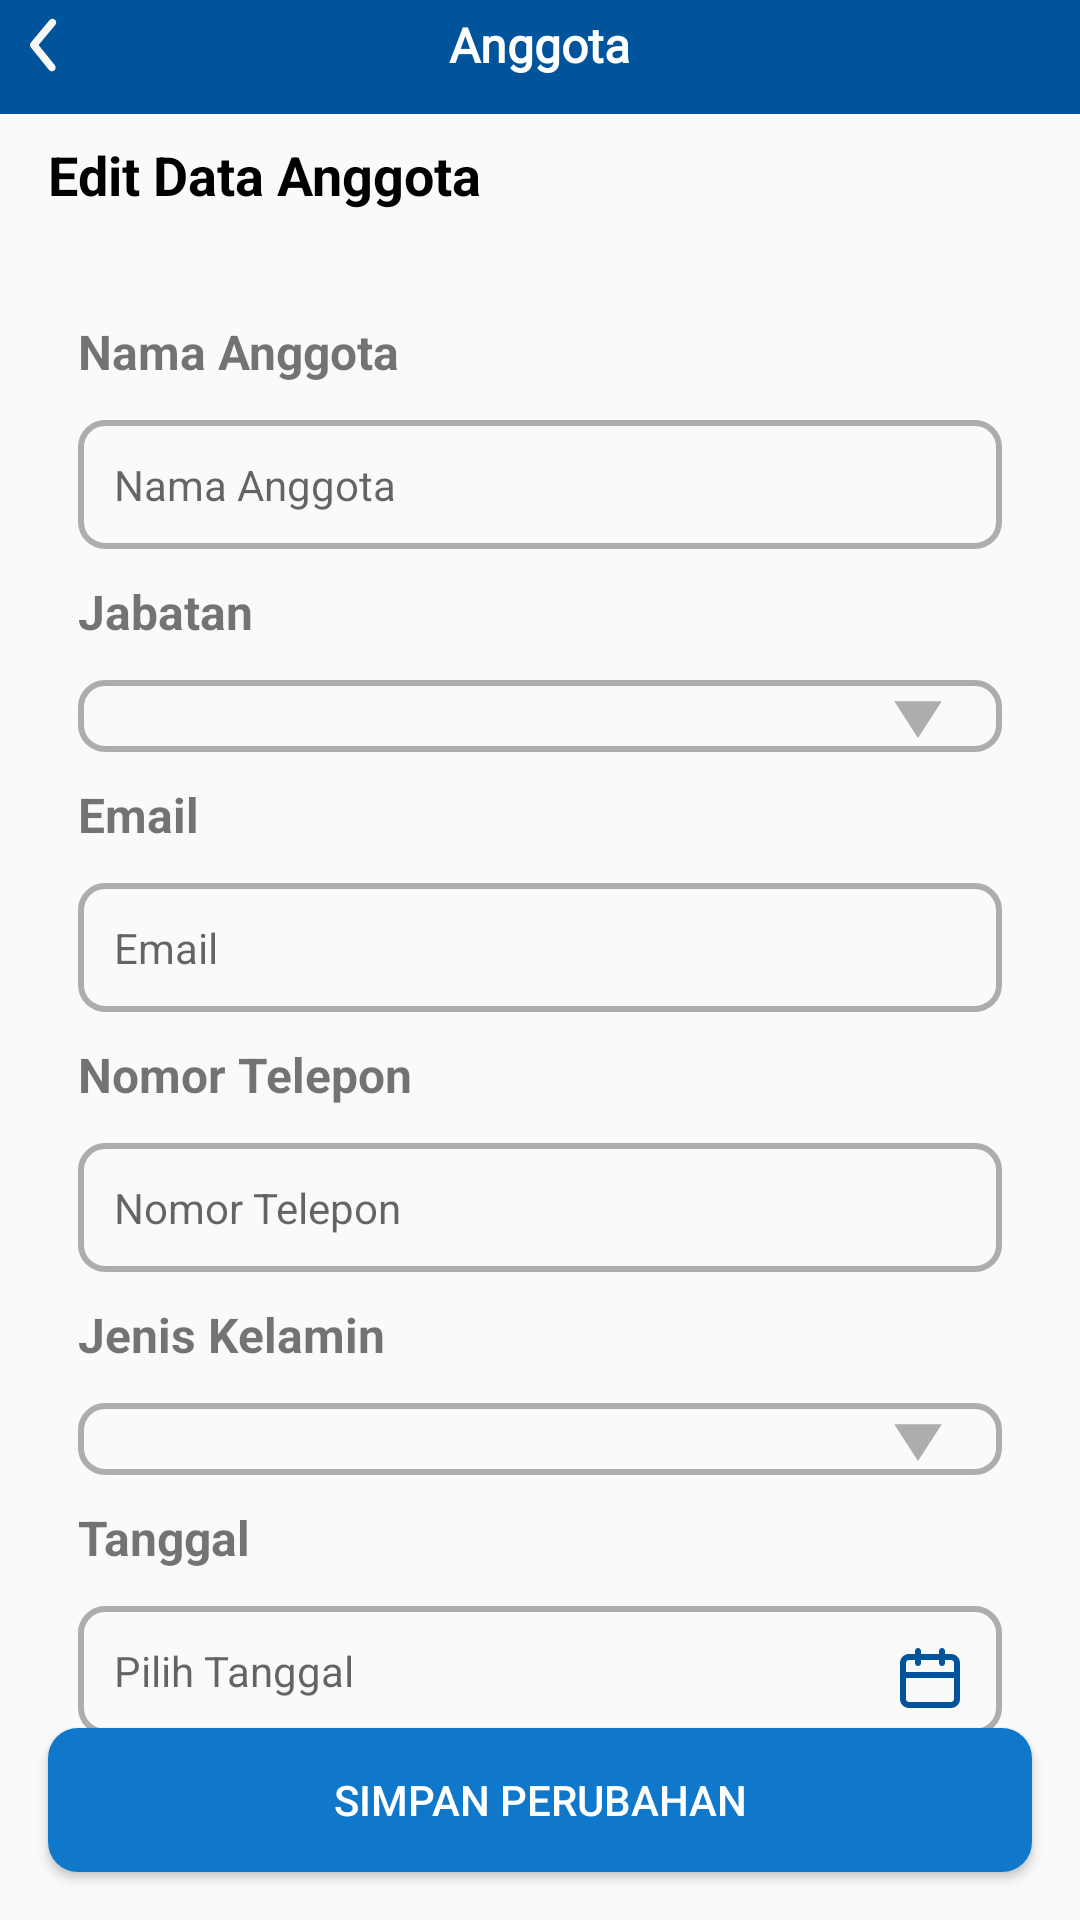

Locate icon controls on the screen. Image size 1080w x 1920h, boxes as BBox(x1, y1, x2, y2).
back arrow: BBox(30, 18, 57, 72)
Dropdown icon: BBox(894, 701, 942, 738), BBox(894, 1424, 942, 1461)
